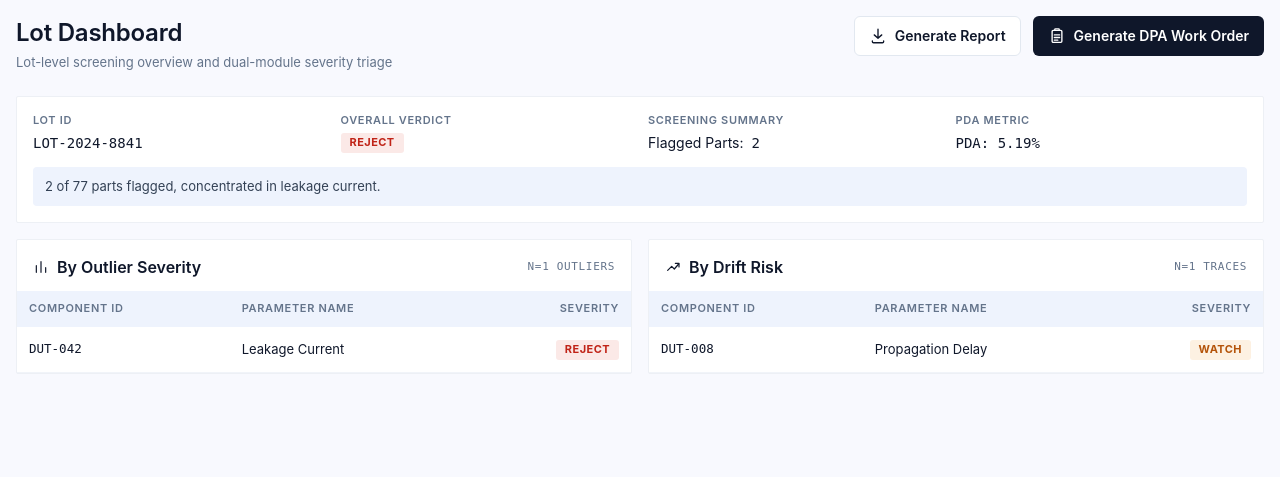
Lot Dashboard screen (E6 screen 3) › a 409 from the server (lot not actually Complete) shows its message
Expected: the text "PDA: 5.19%" is shown, [956,135,1040,151]
Click the button "Generate DPA Work Order": [1148, 36] box [1033,16,1264,56]
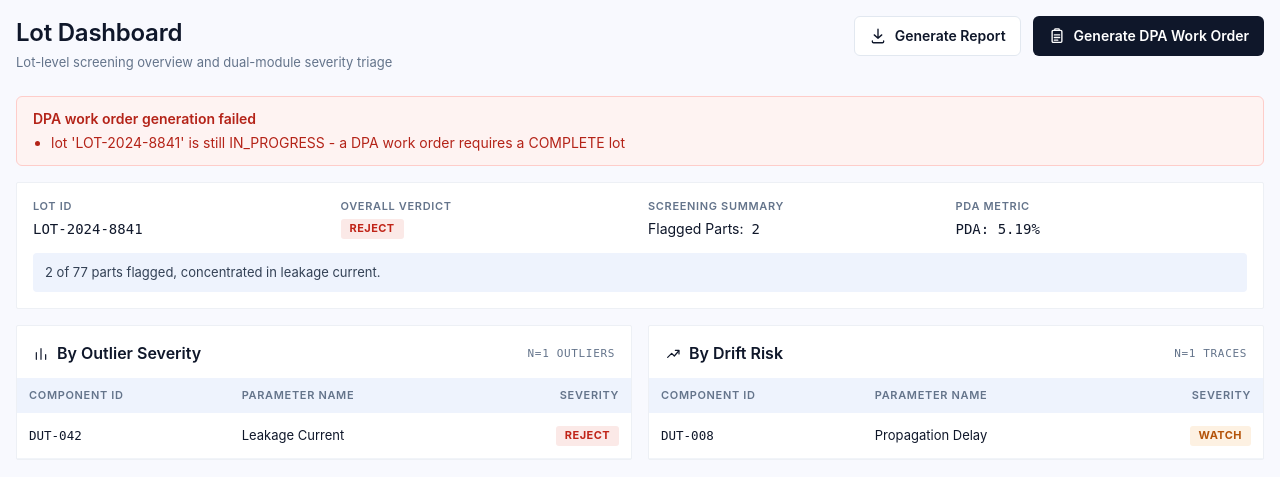
Expected: the list item "is still IN_PROGRESS" is shown, [51,134,625,151]
